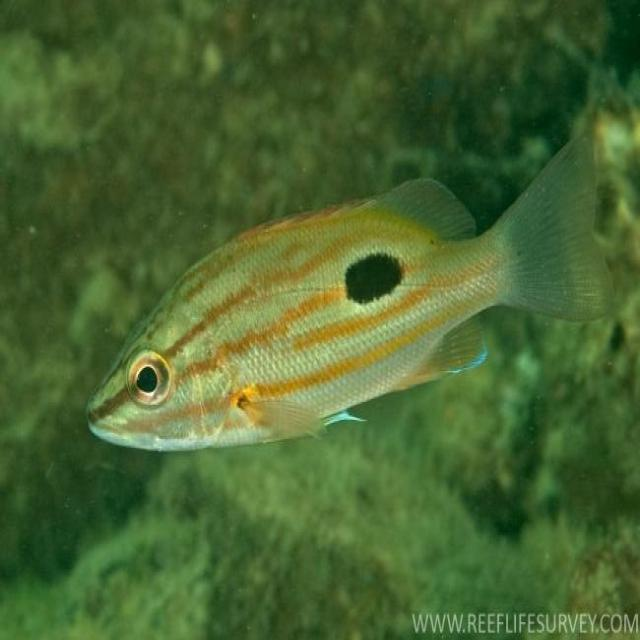ikan: (85, 103, 614, 454)
